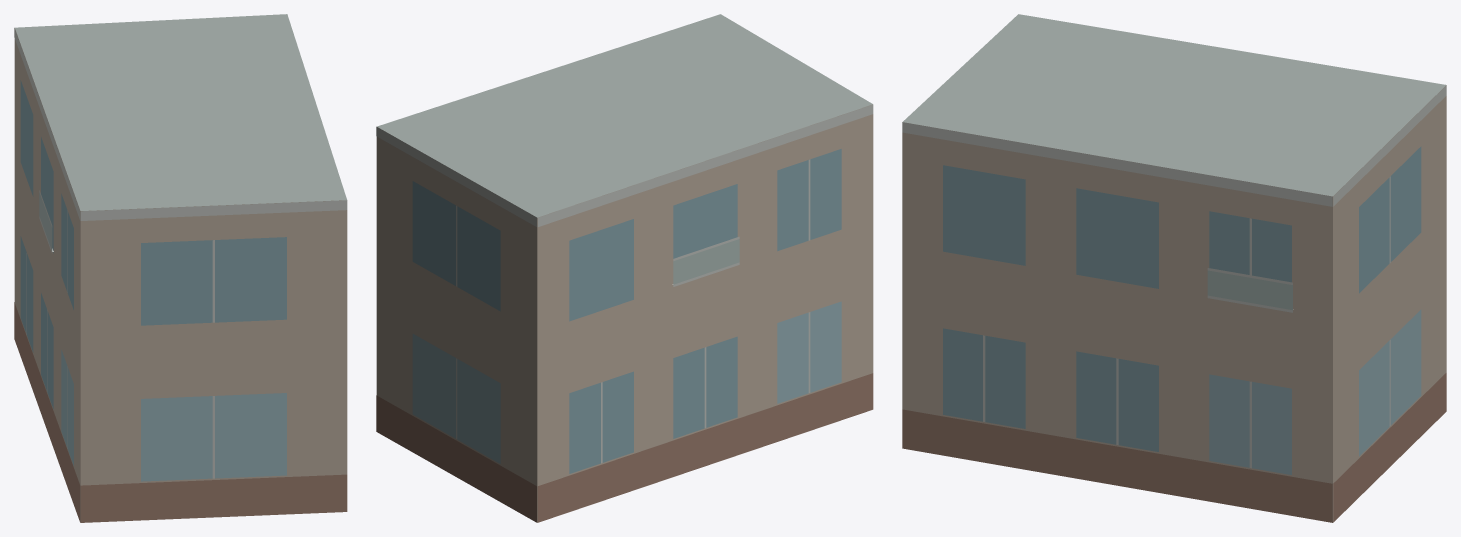
The model's file is survey-upis-32625440.glb.
3 views of the same model, side by side, from view 1: azimuth 30°, elevation 25°; view 2: azimuth 150°, elevation 25°; view 3: azimuth 270°, elevation 25° (orthographic). The views are drawn at different scales.
Visible parts, largest first — view 1: survey-upis-32625440.tmp; view 2: survey-upis-32625440.tmp; view 3: survey-upis-32625440.tmp.
Part boxes in pixels (left/top/right/bottom): survey-upis-32625440.tmp: left=14, top=14, right=347, bottom=522; survey-upis-32625440.tmp: left=376, top=14, right=873, bottom=522; survey-upis-32625440.tmp: left=902, top=14, right=1446, bottom=522.
Size of the model in its own units: 9.12 by 7.6 by 11.5.
